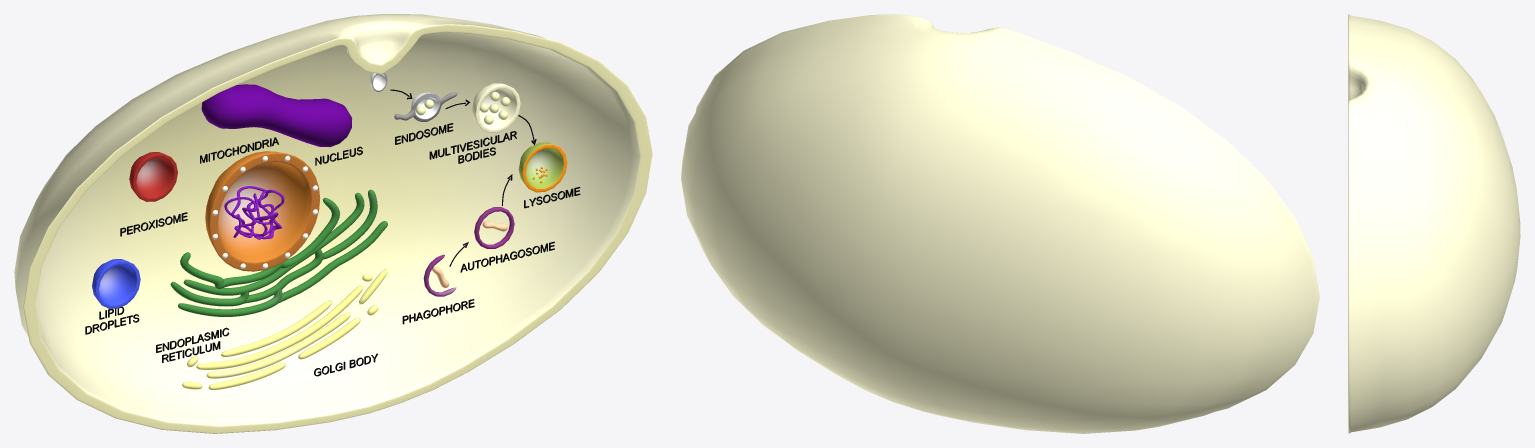
The model's file is organelle_dynamics (1).glb.
3 views of the same model, side by side, from view 1: azimuth 30°, elevation 25°; view 2: azimuth 150°, elevation 25°; view 3: azimuth 270°, elevation 25° (orthographic). The views are drawn at different scales.
Visible parts, largest first — view 1: Box002_all_0, Object001_op_0, TextPlus001_bl_0; view 2: Box002_all_0; view 3: Box002_all_0.
Boxes of the visible parts, x1,y1,x2,y2 form: Box002_all_0: [14, 14, 652, 433]; Object001_op_0: [201, 84, 351, 147]; TextPlus001_bl_0: [85, 89, 580, 376]; Box002_all_0: [681, 14, 1319, 433]; Box002_all_0: [1348, 14, 1520, 433].
Size of the model in its own units: 3.02 by 1.75 by 0.8261.
Materials: 3 (1 with a texture image).
